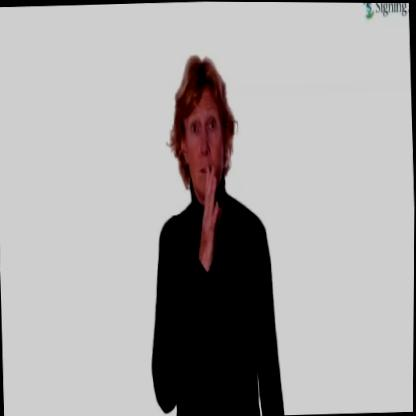Talk: (166, 35, 248, 308)
